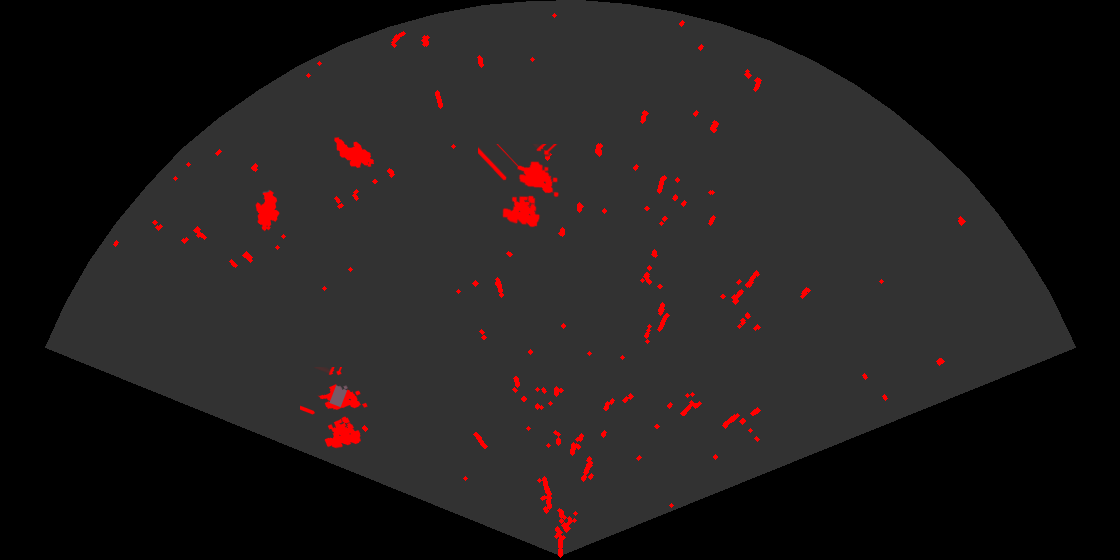AUV: (333, 136, 376, 170), (254, 189, 281, 233)
cage: (478, 144, 561, 229), (300, 367, 369, 450)
